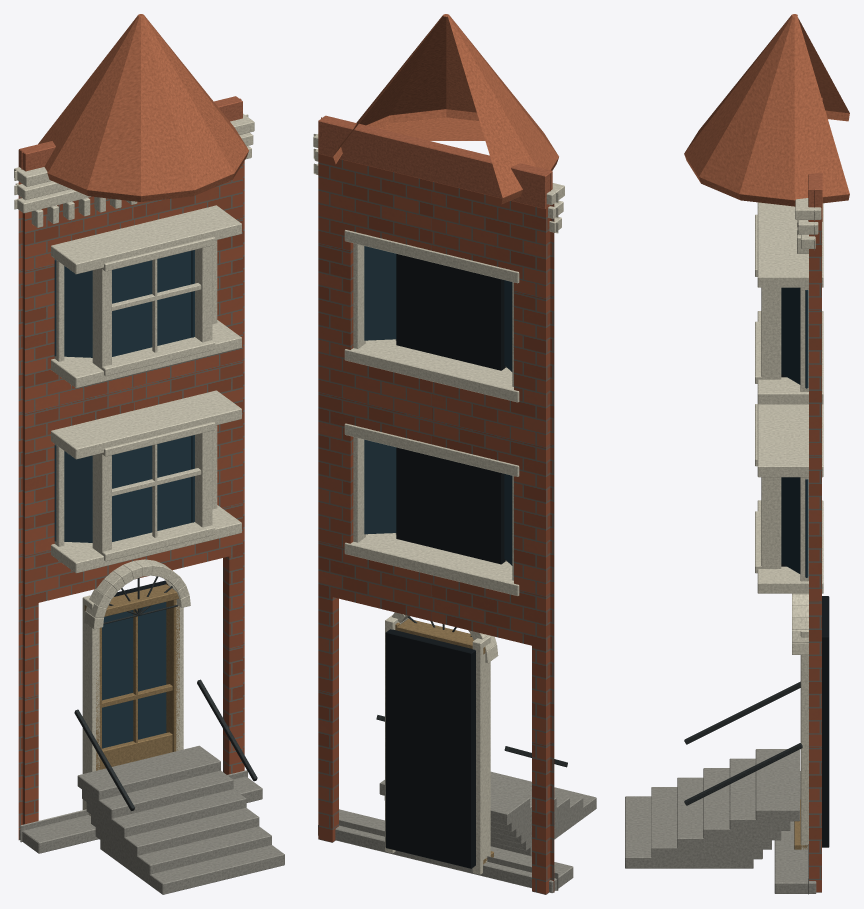
Rendered from VICT6A_lod1.glb.
3 renders of one model, left to right at view 1: azimuth 30°, elevation 25°; view 2: azimuth 150°, elevation 25°; view 3: azimuth 270°, elevation 25°, orthographic. The views are drawn at different scales.
Visible parts, largest first — view 1: VICT6A_FRONT_LOD1; view 2: VICT6A_FRONT_LOD1; view 3: VICT6A_FRONT_LOD1.
Part boxes in pixels (box(x1,y1,x2,y2)): VICT6A_FRONT_LOD1: box(14, 14, 284, 894); VICT6A_FRONT_LOD1: box(313, 14, 596, 894); VICT6A_FRONT_LOD1: box(625, 14, 849, 894).
Bounding box in the file's own units: 3.44 × 11.3 × 2.8.
Materials: 10 (8 with a texture image).
